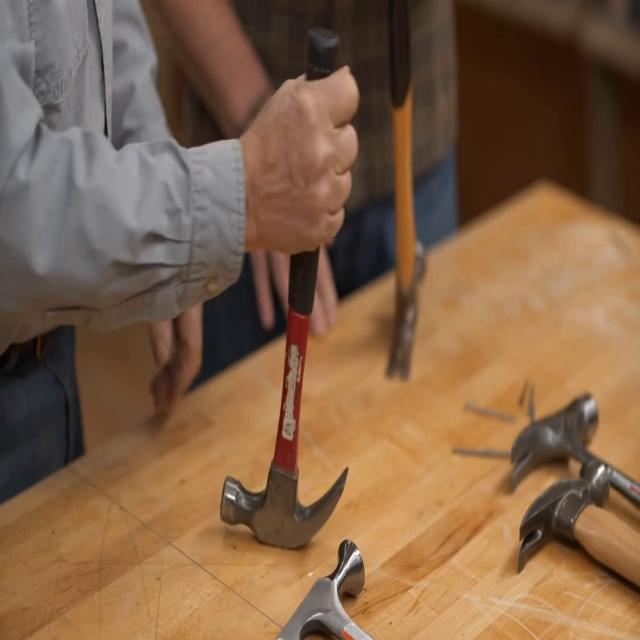hammer: (220, 248, 349, 549), (518, 459, 640, 592), (383, 2, 426, 378), (509, 389, 640, 511), (274, 540, 374, 640)
